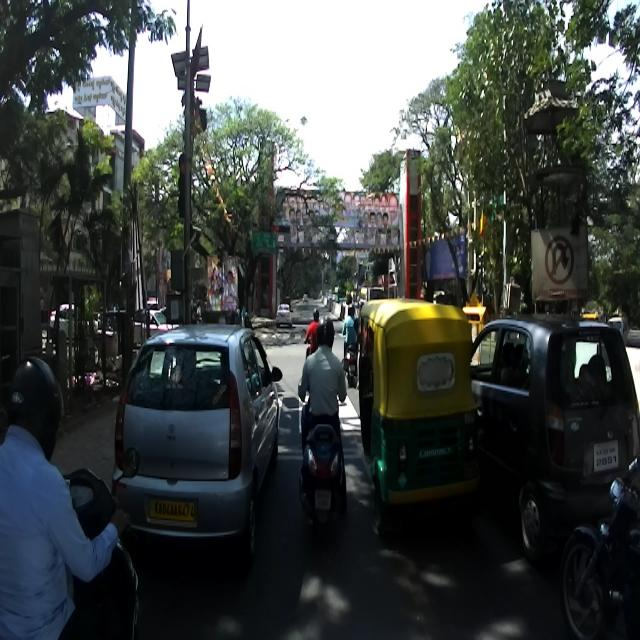autorickshaw: (353, 296, 481, 537)
car: (109, 322, 283, 566), (470, 293, 640, 542)
motorcycle: (559, 454, 639, 638)
scooter: (0, 443, 142, 637), (298, 389, 344, 546)
